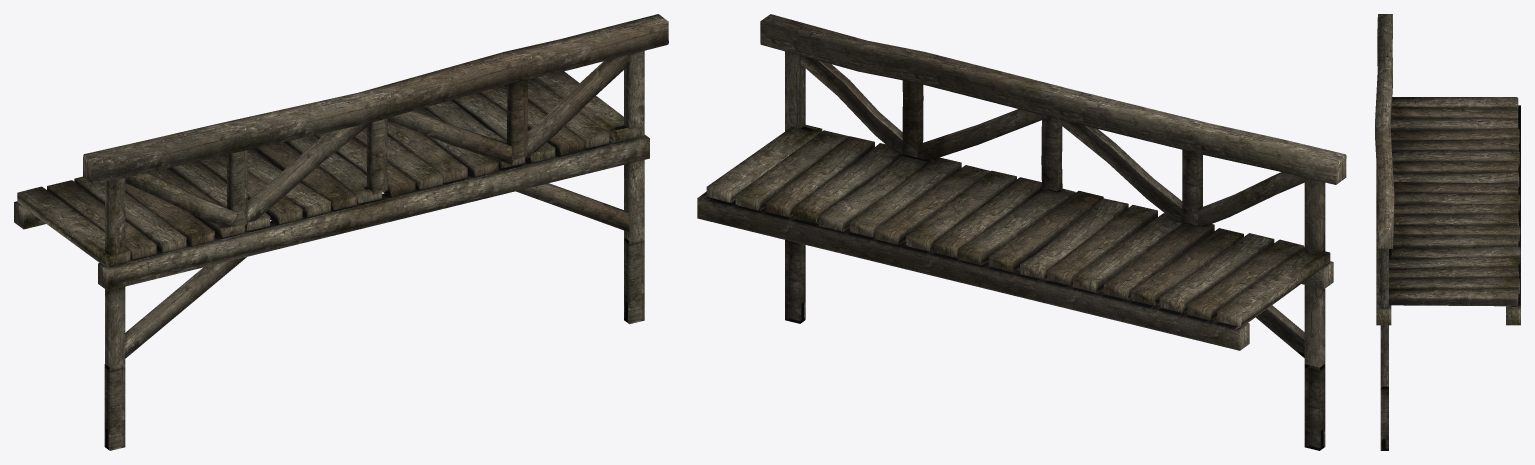
The model's file is 05_02_bridge.dae.
3 renders of one model, left to right at view 1: azimuth 30°, elevation 25°; view 2: azimuth 150°, elevation 25°; view 3: azimuth 270°, elevation 25°, orthographic. The views are drawn at different scales.
Visible parts, largest first — view 1: Mesh; view 2: Mesh; view 3: Mesh.
Boxes of the visible parts, bbox=[...] form: Mesh: bbox=[14, 14, 668, 450]; Mesh: bbox=[697, 14, 1346, 450]; Mesh: bbox=[1375, 14, 1520, 450].
Size of the model in its own units: 10.89 by 5.33 by 3.08.
